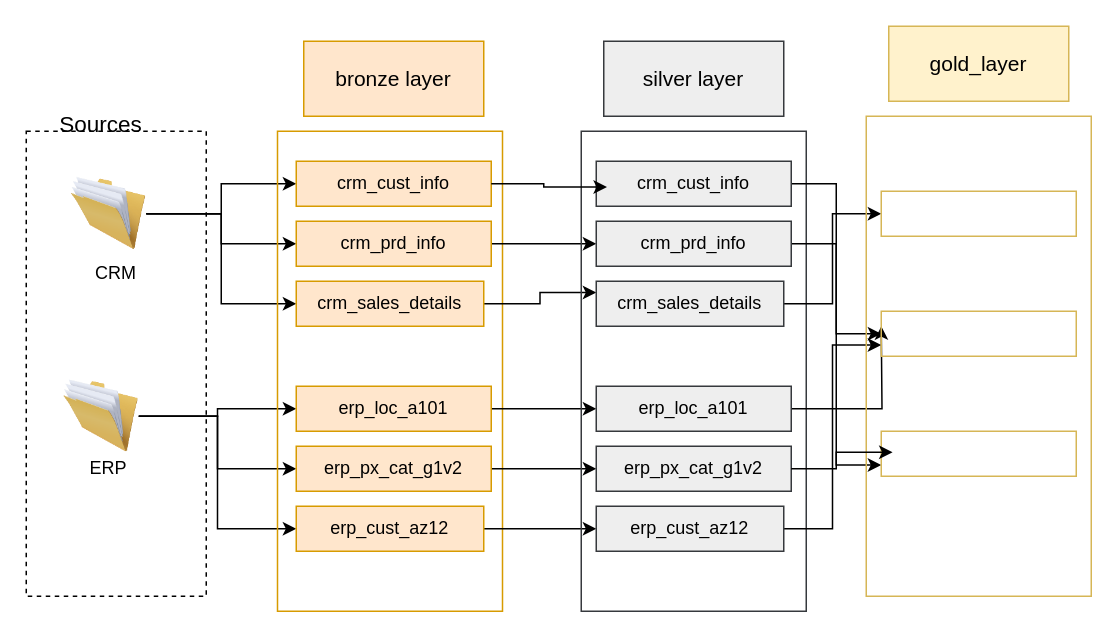
Some shapes in this 1118 by 638 pixel diagram are drawn without their labels. The centre of each missing label's shape, as x and y in pixels:
dim_customers: the point at 978,333
dim_proucts: the point at 978,453
fact_sales: the point at 978,213
